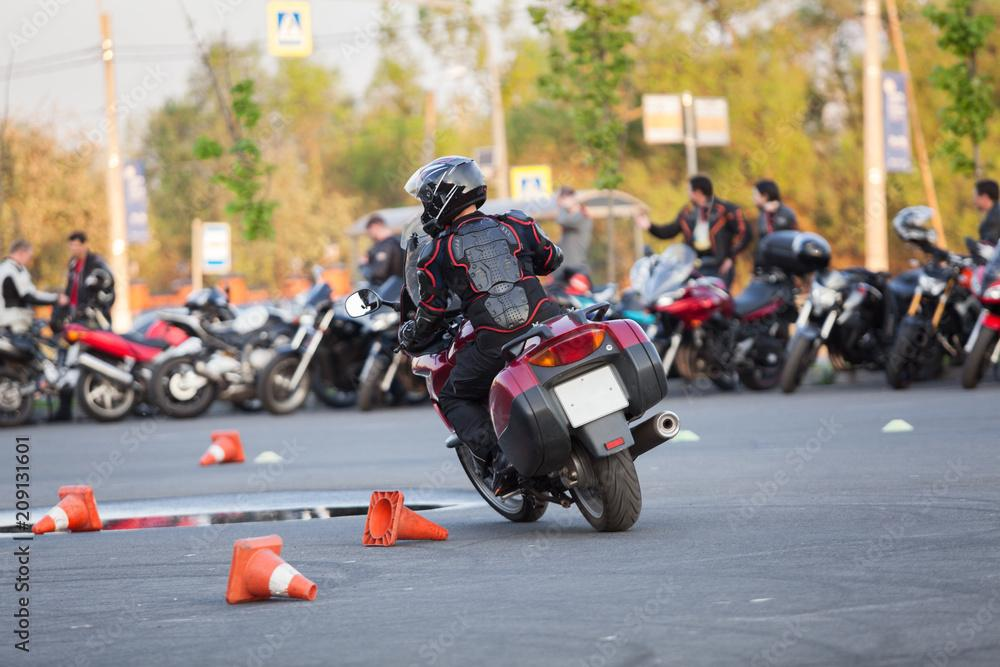helmet: (403, 154, 488, 239)
